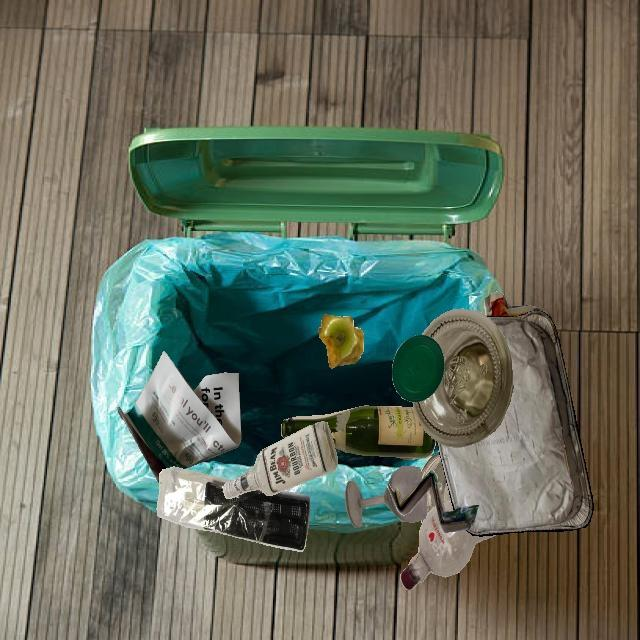biowaste: (318, 314, 363, 369)
cardboard: (387, 470, 479, 533)
glass: (412, 308, 513, 448), (223, 421, 338, 499), (281, 405, 436, 459), (345, 480, 427, 527), (422, 475, 476, 543), (422, 451, 451, 503), (387, 466, 422, 501)
metal: (437, 310, 593, 536)
paper: (117, 351, 242, 485), (517, 314, 562, 352), (484, 294, 517, 317)
plastic: (157, 467, 310, 551), (400, 506, 496, 590), (392, 335, 444, 403)
